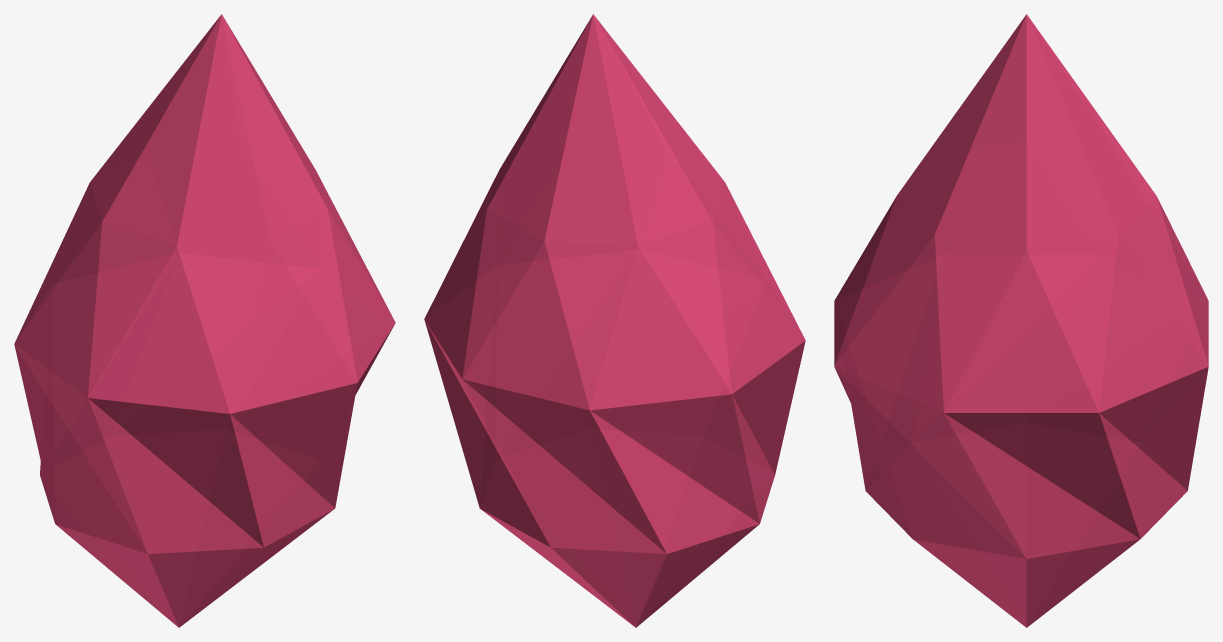
File: crystal.glb
3 views of the same model, side by side, from view 1: azimuth 30°, elevation 25°; view 2: azimuth 150°, elevation 25°; view 3: azimuth 270°, elevation 25° (orthographic). The views are drawn at different scales.
Parts seen in each view (by area): view 1: Crystal; view 2: Crystal; view 3: Crystal.
Boxes of the visible parts, x1,y1,x2,y2 form: Crystal: [14, 14, 395, 627]; Crystal: [424, 14, 805, 627]; Crystal: [834, 14, 1208, 627].
Bounding box in the file's own units: 1.44 × 2.7 × 1.44.
